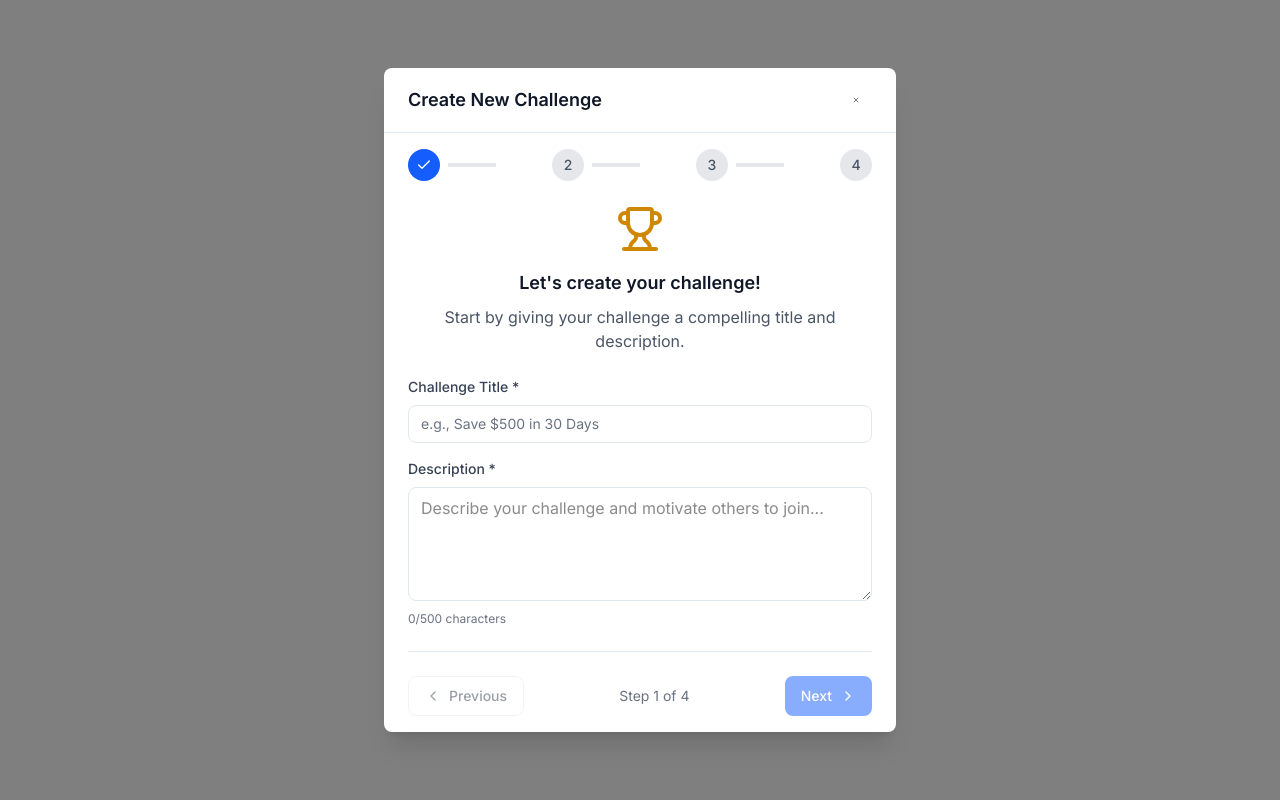
Scenario: ChallengeCreateWizard › handles step navigation
This screenshot has width=1280, height=800.
In the field with placeholder "e.g., Save $500 in 30 Days": (640, 424) x1=408 y1=405 x2=872 y2=443, type "Test Challenge"
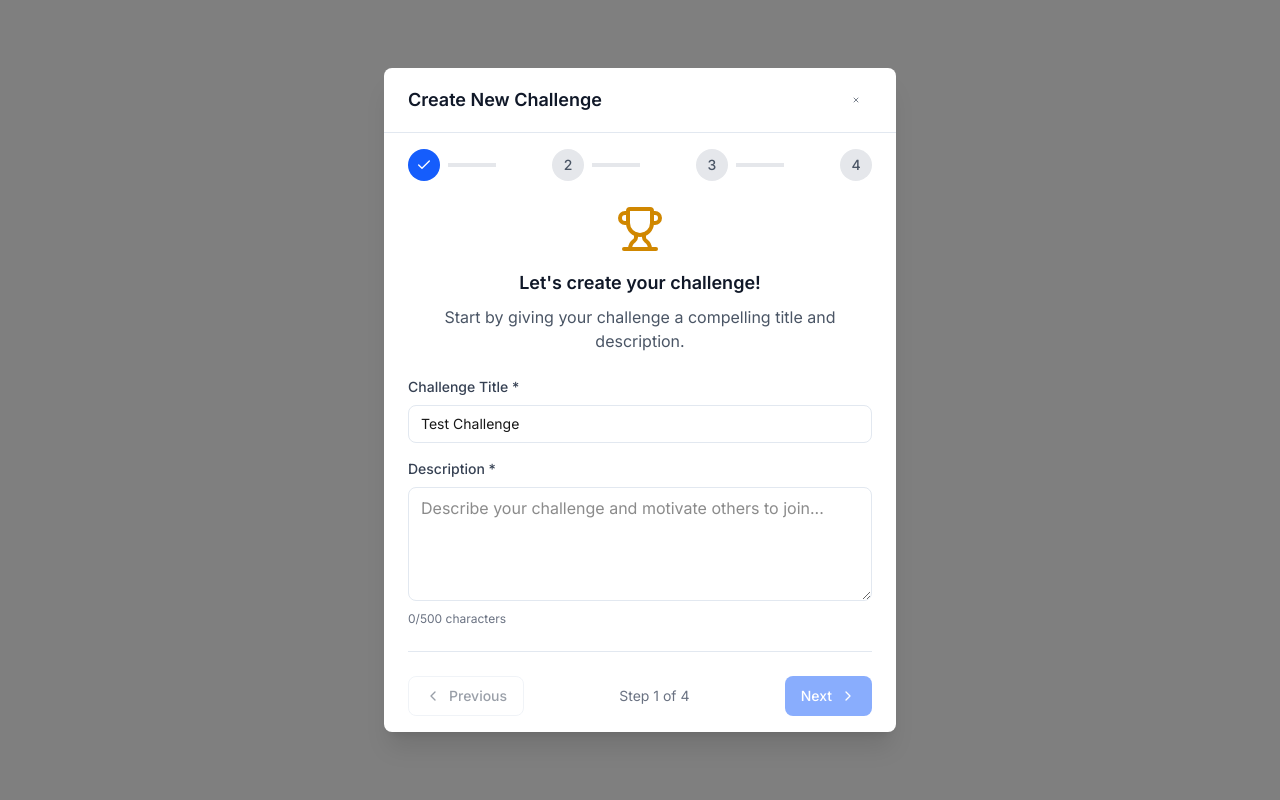
In the text box with placeholder "Describe your challenge and motivate others to join...": (640, 544) x1=408 y1=487 x2=872 y2=601, type "Test description"
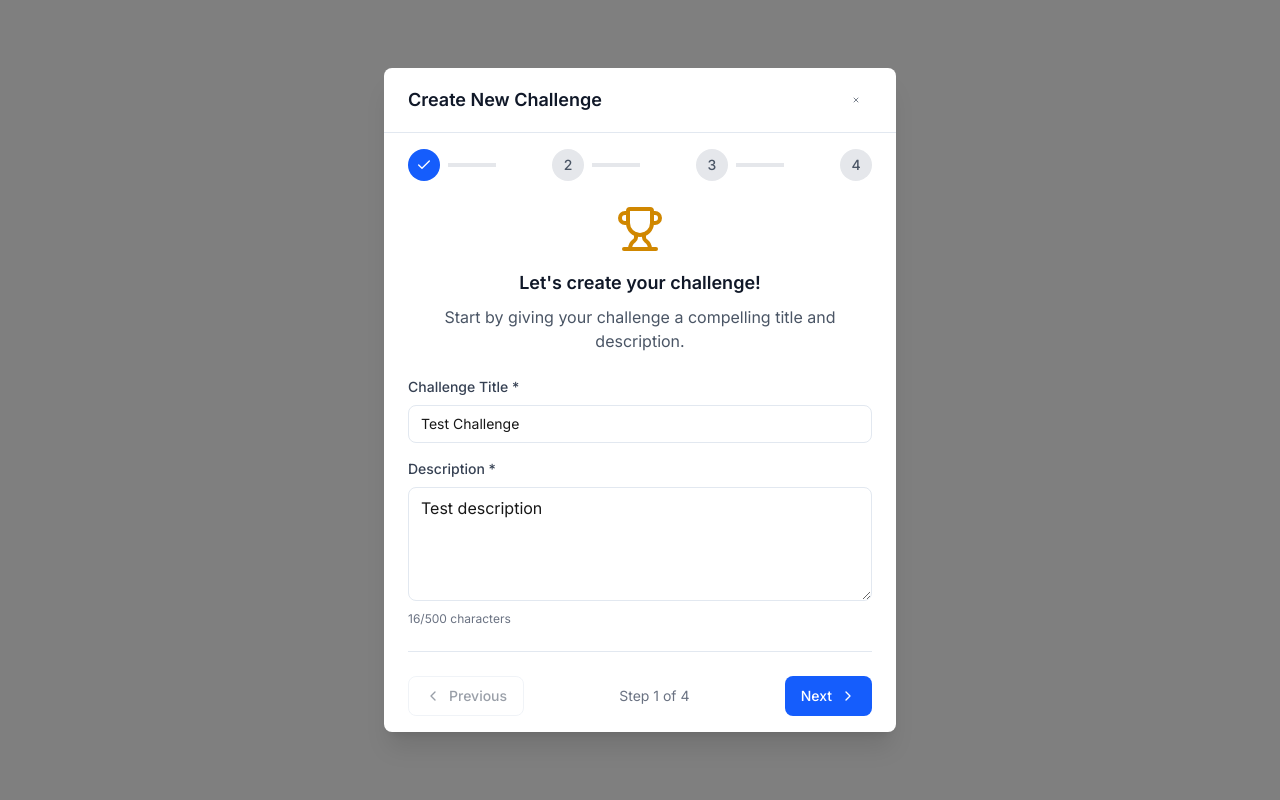
Expected: the button "Next" is enabled
Click the button "Next": (828, 696) x1=785 y1=676 x2=872 y2=716
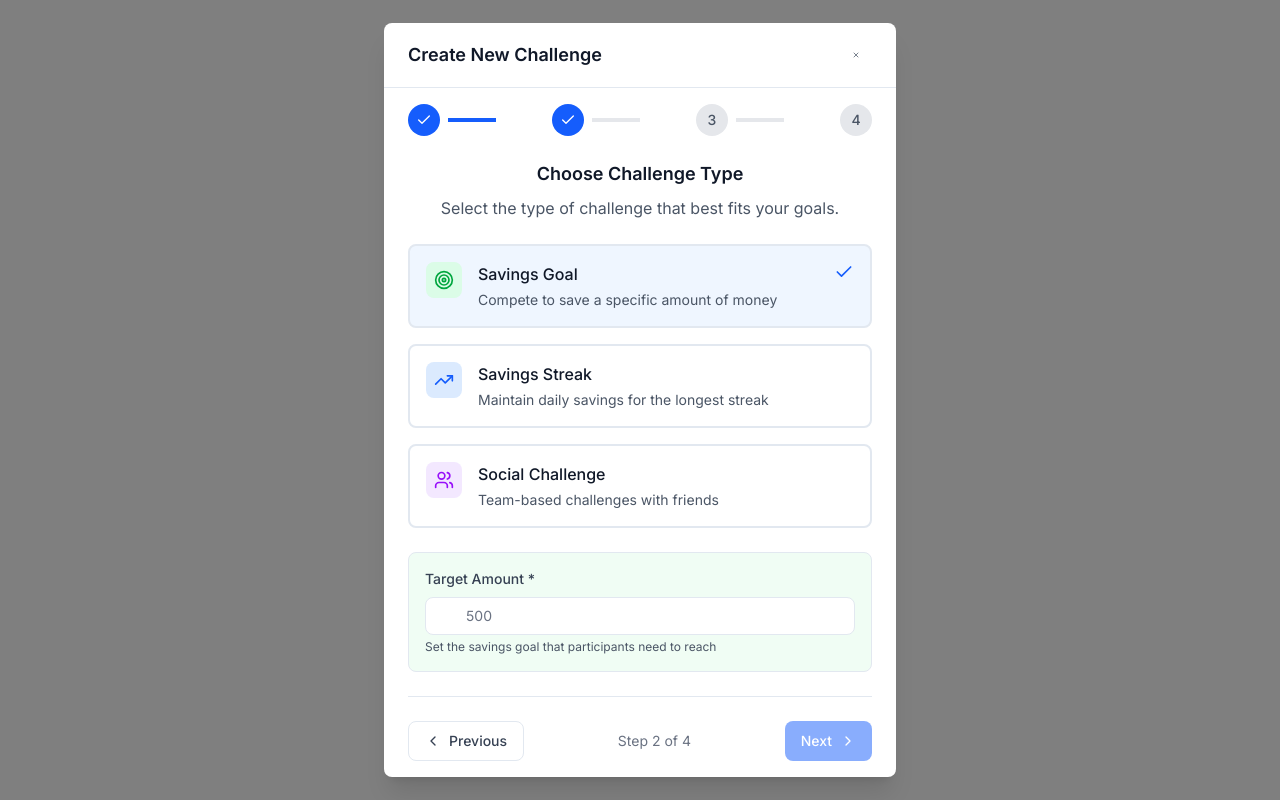
Expected: the text "Step 2 of 4" is shown, x1=618 y1=731 x2=691 y2=751
Expected: the heading "Choose Challenge Type" is shown, x1=537 y1=163 x2=743 y2=184
